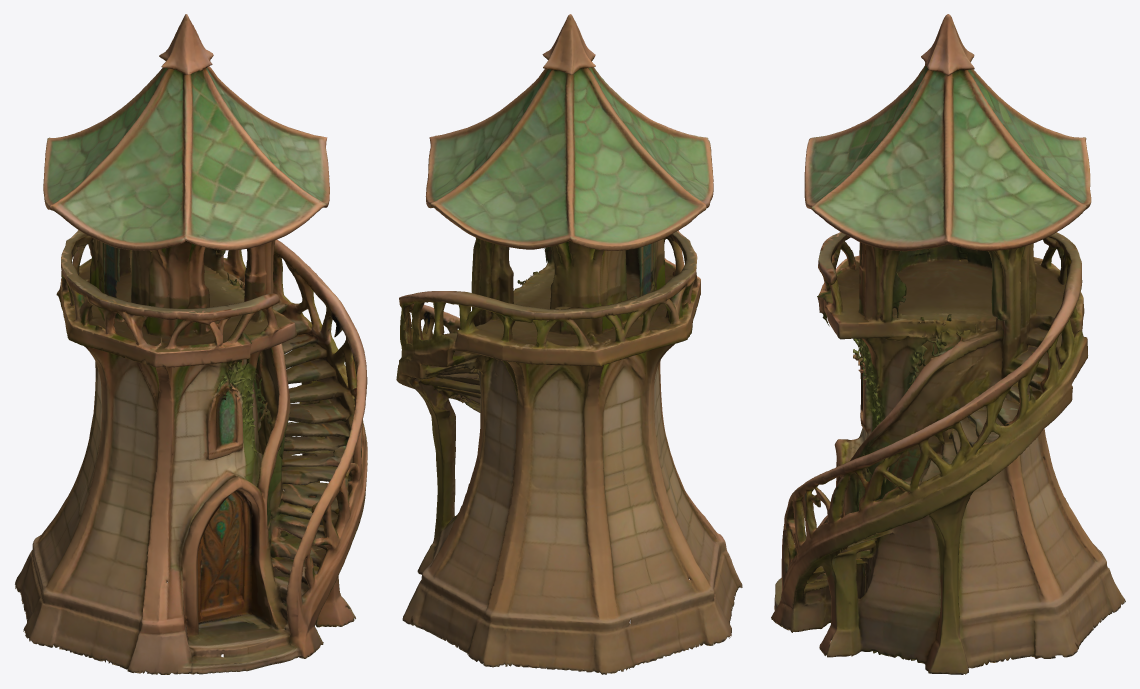
The model's file is Meshy_AI_Enchanted_Spiral_Towe_1016102349_texture.fbx.
The picture shows the model from 3 angles, left to right: view 1: azimuth 30°, elevation 25°; view 2: azimuth 150°, elevation 25°; view 3: azimuth 270°, elevation 25°; orthographic projection.
Parts seen in each view (by area): view 1: Mesh_0; view 2: Mesh_0; view 3: Mesh_0.
Part boxes in pixels (x1,y1,x2,y2): Mesh_0: (15, 14, 367, 674); Mesh_0: (396, 14, 742, 674); Mesh_0: (771, 14, 1125, 674).
Bounding box in the file's own units: 111 × 197 × 107.
1 material, 1 textured.
